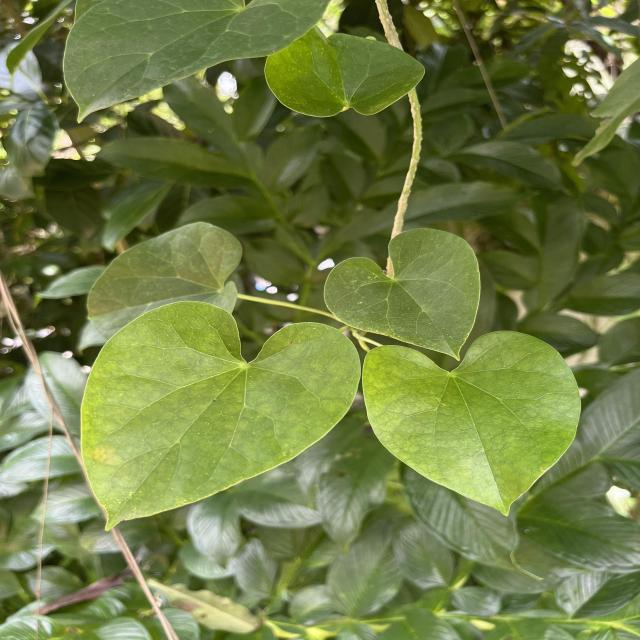Tinospora cordifolia: (76, 298, 364, 535), (360, 326, 584, 518), (322, 224, 482, 363)
